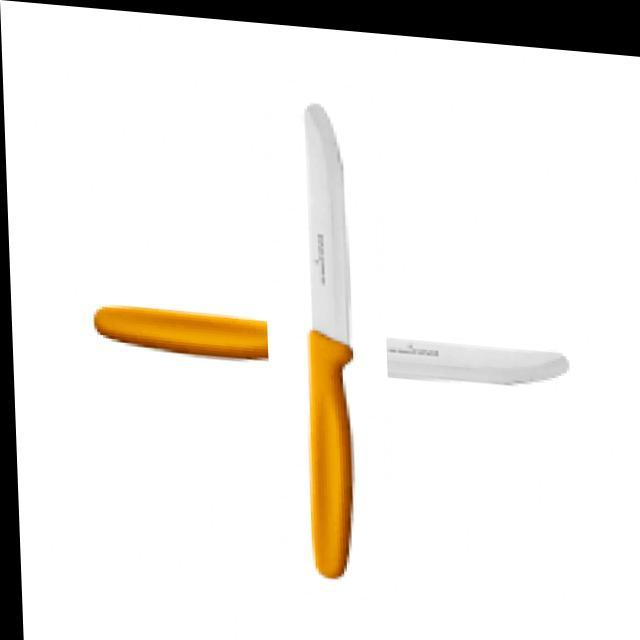knife: (91, 300, 568, 391), (301, 100, 356, 580)
